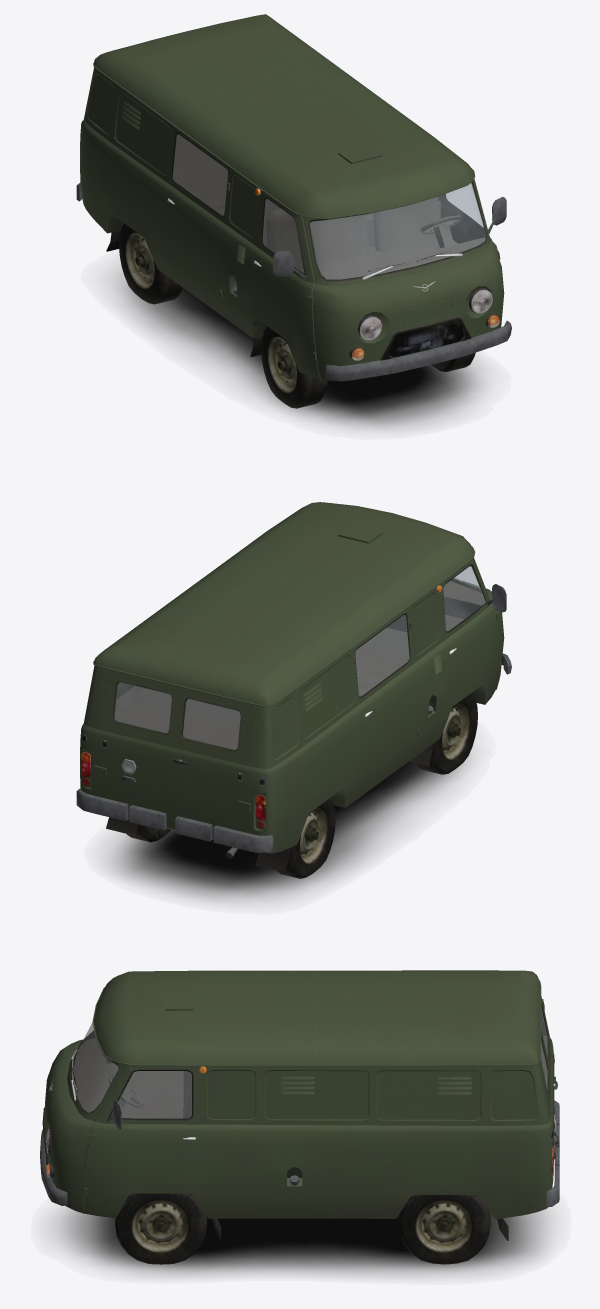
File: van_uaz452.glb
3 views of the same model, one above another, from view 1: azimuth 30°, elevation 25°; view 2: azimuth 150°, elevation 25°; view 3: azimuth 270°, elevation 25° (orthographic).
Parts seen in each view (by area): view 1: van_uaz452; view 2: van_uaz452; view 3: van_uaz452.
Boxes of the visible parts, bbox=[...] form: van_uaz452: bbox=[76, 14, 511, 428]; van_uaz452: bbox=[76, 502, 511, 901]; van_uaz452: bbox=[40, 970, 559, 1275].
Size of the model in its own units: 2.52 by 1.9 by 4.4.
Materials: 2 (2 with a texture image).
